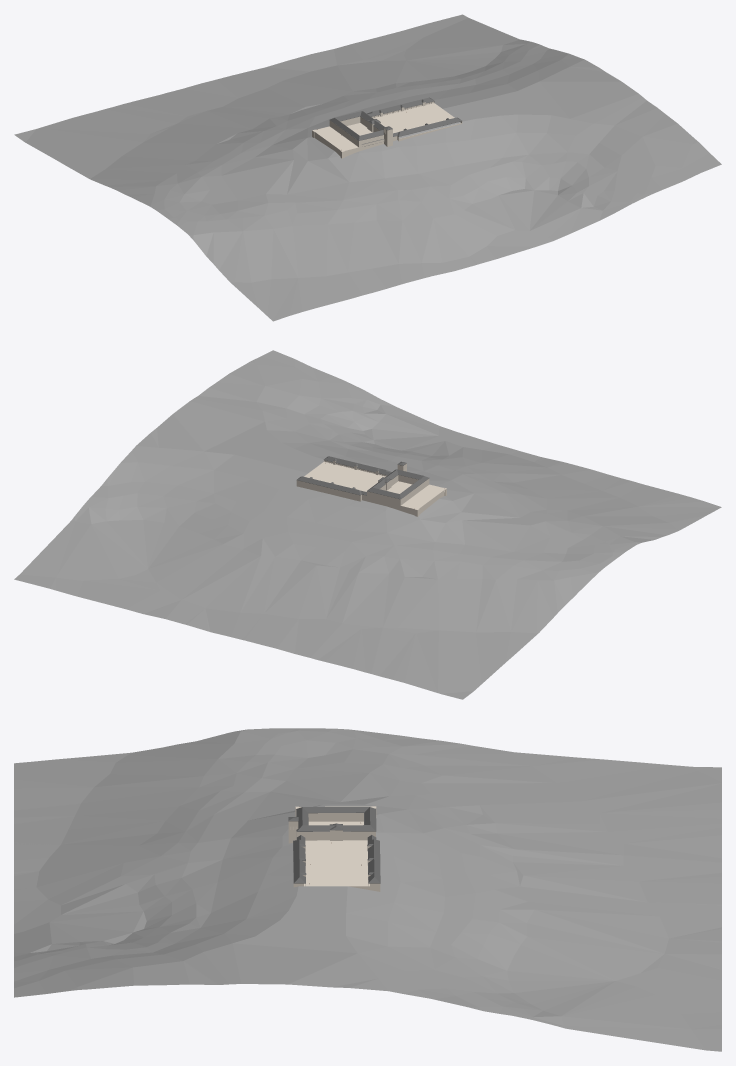
3 renders of one model, top to bottom at view 1: azimuth 30°, elevation 25°; view 2: azimuth 150°, elevation 25°; view 3: azimuth 270°, elevation 25°, orthographic. The views are drawn at different scales.
Parts seen in each view (by area): view 1: VisualSceneNode1.428, VisualSceneNode1.108, VisualSceneNode1.395; view 2: VisualSceneNode1.428, VisualSceneNode1.108; view 3: VisualSceneNode1.428, VisualSceneNode1.108.
Boxes of the visible parts, x1,y1,x2,y2 form: VisualSceneNode1.428: [14, 14, 721, 321]; VisualSceneNode1.108: [373, 103, 454, 133]; VisualSceneNode1.395: [312, 126, 358, 151]; VisualSceneNode1.428: [14, 350, 721, 699]; VisualSceneNode1.108: [304, 461, 385, 491]; VisualSceneNode1.428: [14, 728, 721, 1051]; VisualSceneNode1.108: [304, 840, 369, 886].
Size of the model in its own units: 110 by 16.21 by 110.
